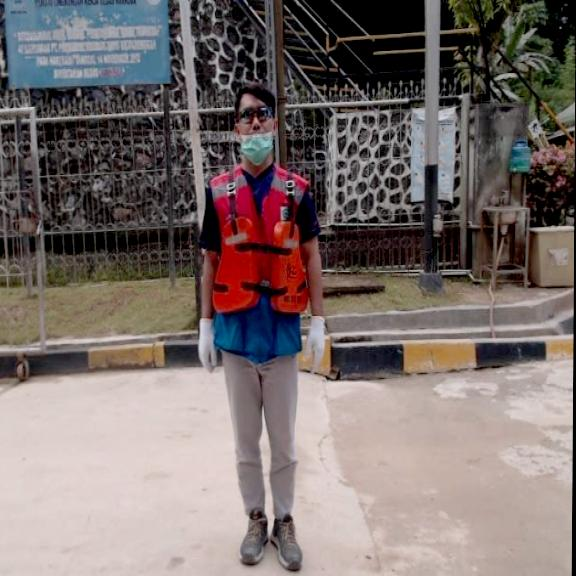safety_vest: (212, 218, 310, 314)
